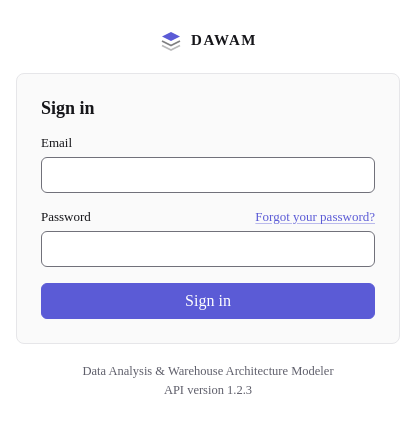
Scenario: signing in › shows the API's message when the credentials are wrong
Type "ada@example.com" into the field labelled "Email".
click(208, 174); type("ada@example.com")  # box left=41, top=156, right=375, bottom=192
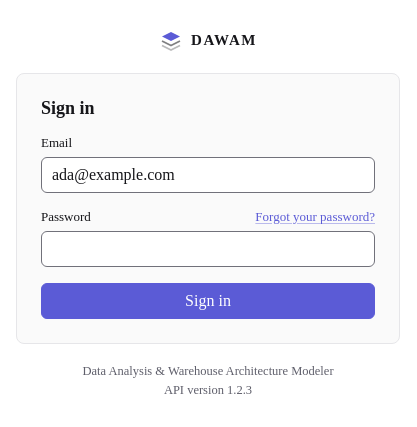
Type "not the password" into the password field labelled "Password".
click(208, 248); type("not the password")  # box left=41, top=230, right=375, bottom=266
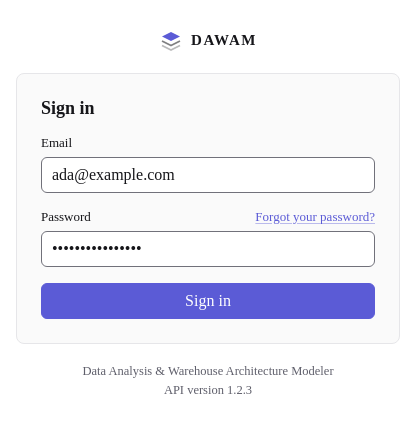
Click the button "Sign in".
click(208, 300)  # box left=41, top=282, right=375, bottom=318
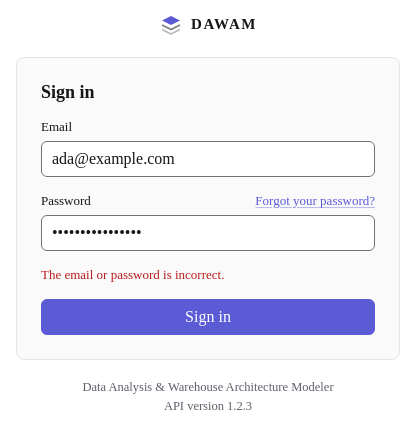
Expected: the message reads "The email or password is incorrect.", left=41, top=266, right=224, bottom=282
